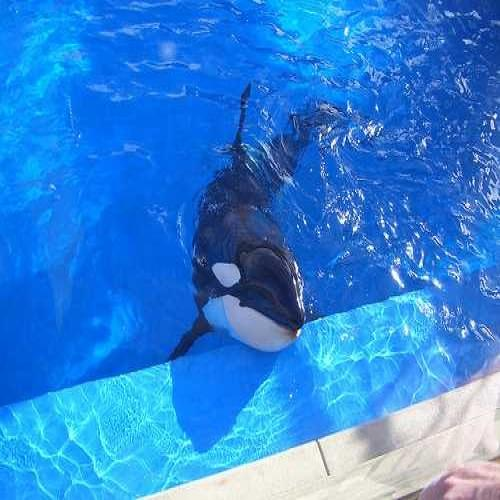killer_whale-endangered: (171, 43, 379, 380)
